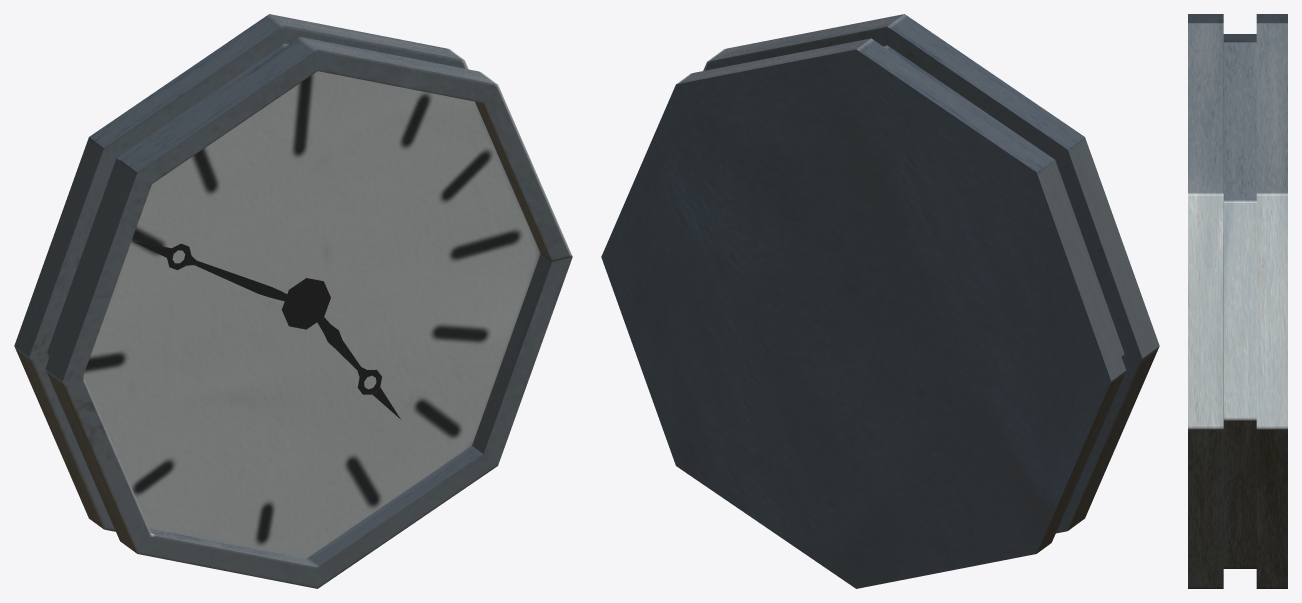
File: relogio_1.fbx
3 views of the same model, side by side, from view 1: azimuth 30°, elevation 25°; view 2: azimuth 150°, elevation 25°; view 3: azimuth 270°, elevation 25° (orthographic). The views are drawn at different scales.
Parts seen in each view (by area): view 1: Relogio, Cylinder, Ponteiro grande, Ponteiro pequeno; view 2: Relogio; view 3: Relogio.
Boxes of the visible parts, x1,y1,x2,y2 form: Relogio: (14,14,572,588); Cylinder: (281,278,330,329); Ponteiro grande: (133,241,286,301); Ponteiro pequeno: (317,317,400,419); Relogio: (601,14,1159,588); Relogio: (1188,14,1287,588).
Size of the model in its own units: 284 by 287 by 46.72.
4 materials, 4 textured.
